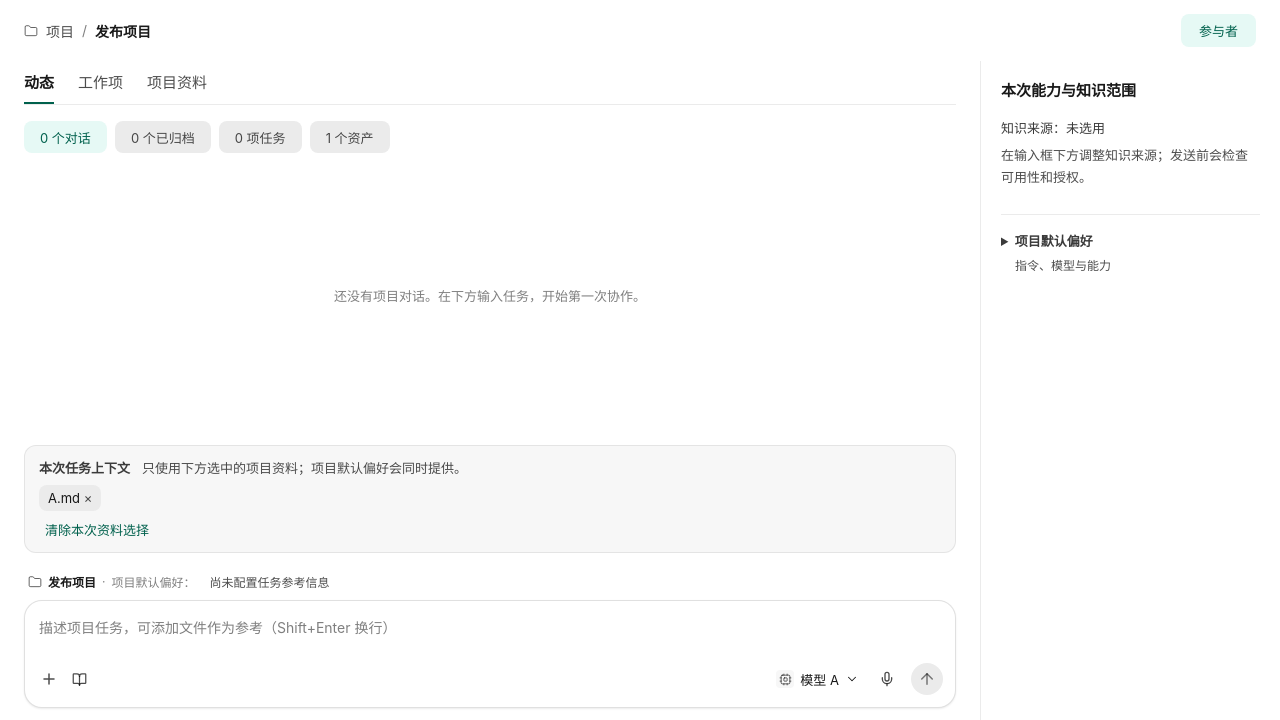
ProjectDetailView 项目 composer 接入首页 Composer › native project-asset rejection preserves both selection and task draft
Type "retry me" into the text box with placeholder "描述项目任务，可添加文件作为参考（Shift+Enter 换行）" at [490, 638], box [37, 613, 943, 663]
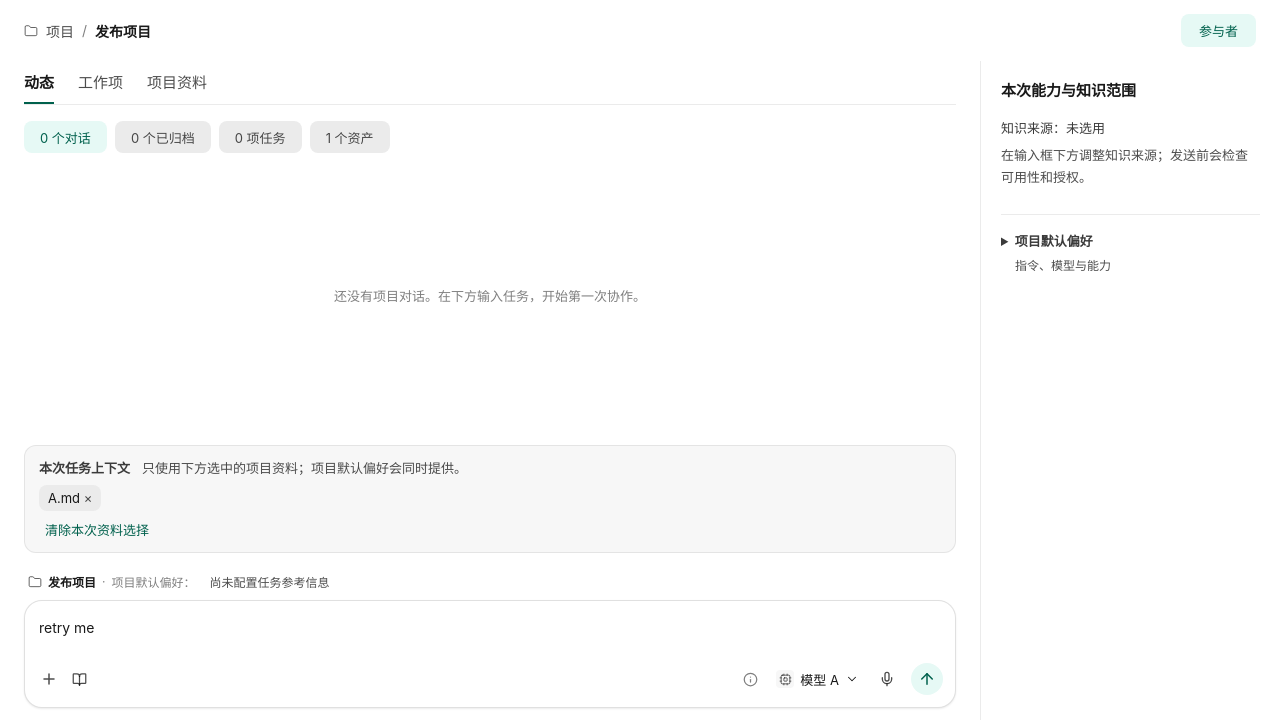
Click the button named "发送" at [927, 679], box [911, 663, 943, 695]
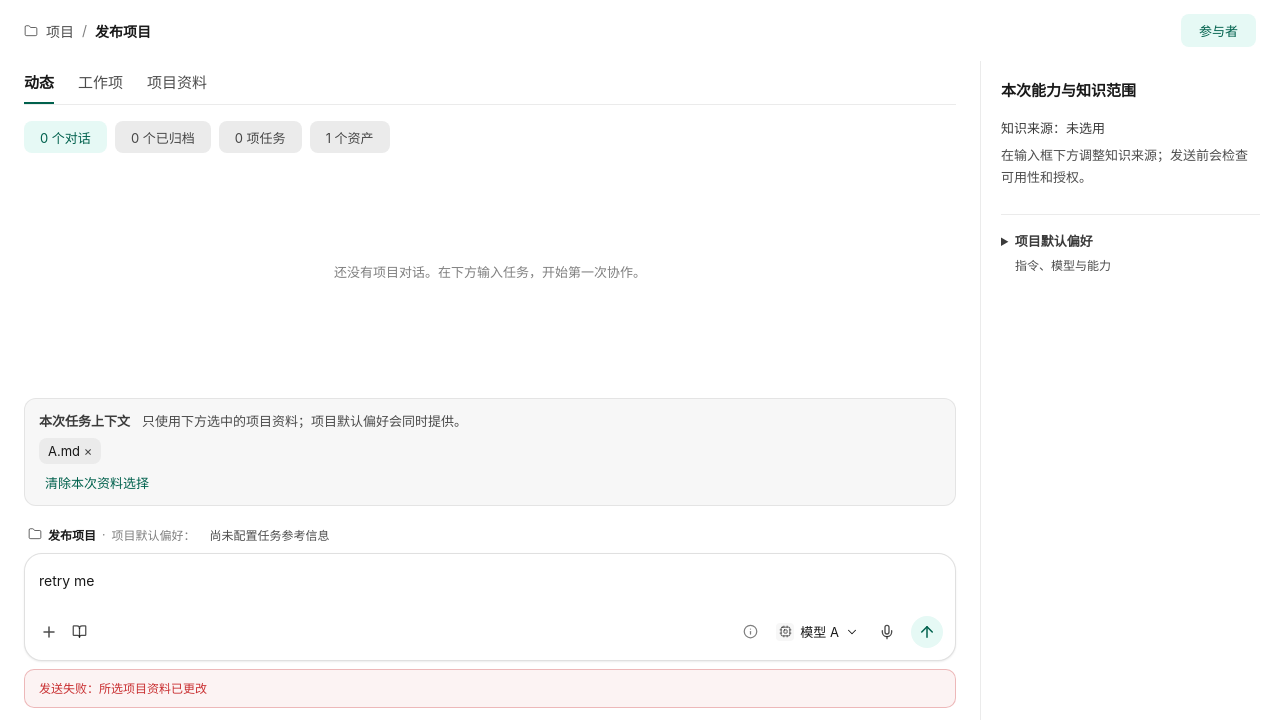
Expected: the button with aria-label "移除本次资料 A.md" is shown, [39, 438, 101, 464]
Expected: the message "发送失败：所选项目资料已更改" is shown, [24, 669, 956, 708]
